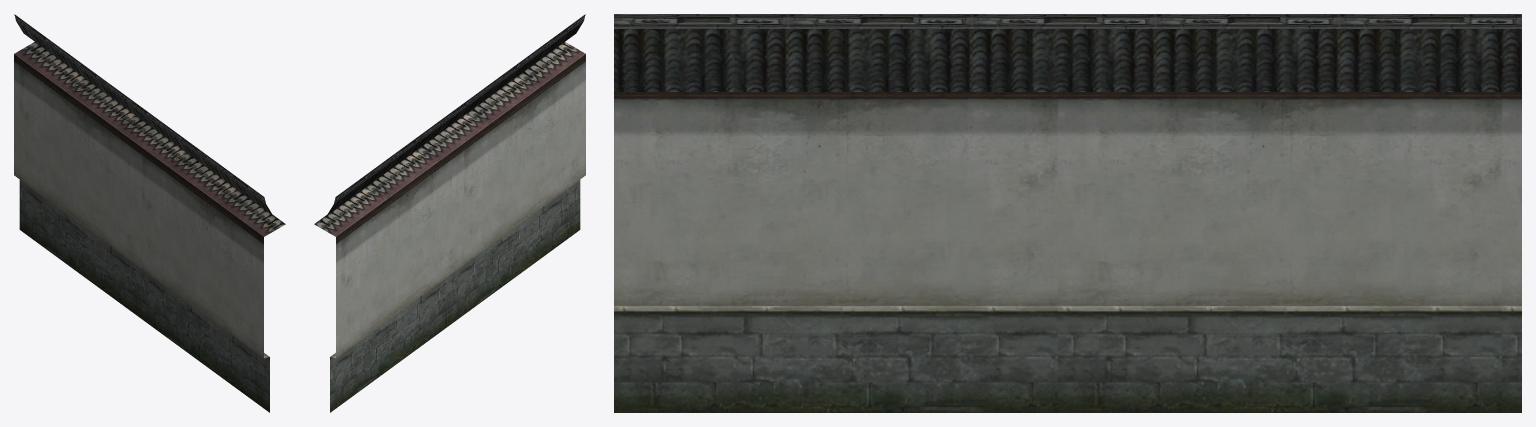
Rendered from Wall_13.FBX.
3 views of the same model, side by side, from view 1: azimuth 30°, elevation 25°; view 2: azimuth 150°, elevation 25°; view 3: azimuth 270°, elevation 25° (orthographic). The views are drawn at different scales.
Parts seen in each view (by area): view 1: Plane001; view 2: Plane001; view 3: Plane001.
Part boxes in pixels (x1=…): Plane001: x1=14, y1=14, x2=285, y2=412; Plane001: x1=314, y1=14, x2=585, y2=412; Plane001: x1=614, y1=14, x2=1521, y2=412.
Size of the model in its own units: 0.2453 by 2.33 by 4.86.
